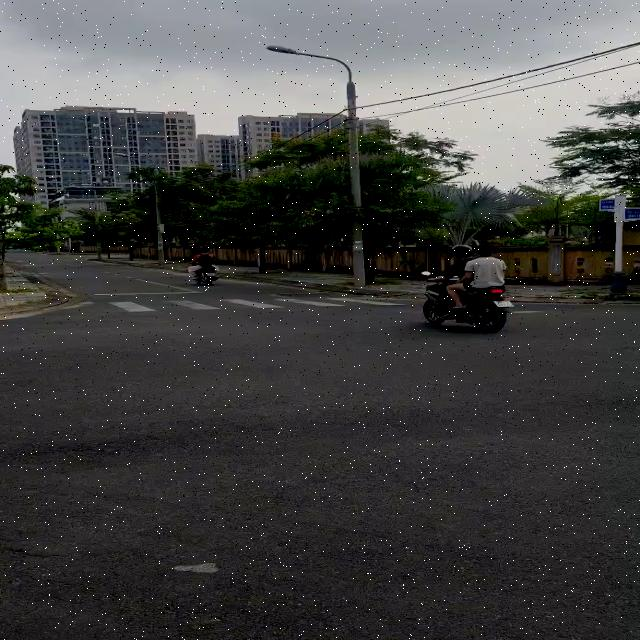helmet: (447, 244, 473, 264)
no_helmet: (474, 240, 502, 256)
